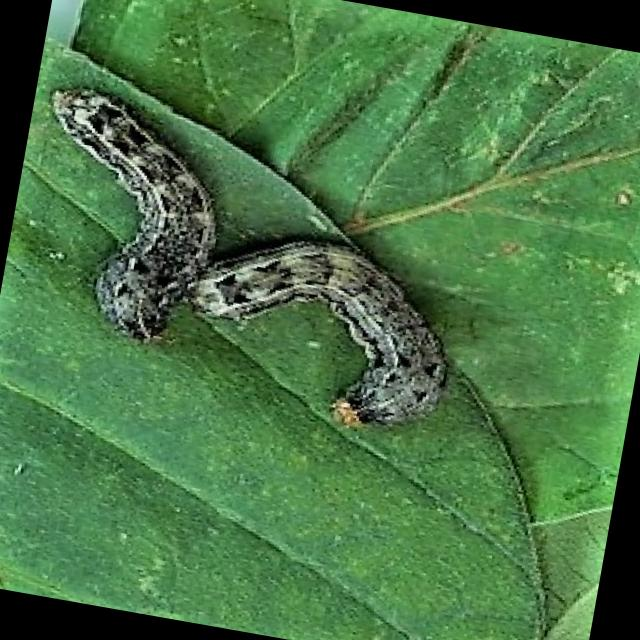Armyworm: (156, 216, 509, 456), (1, 59, 247, 363)
